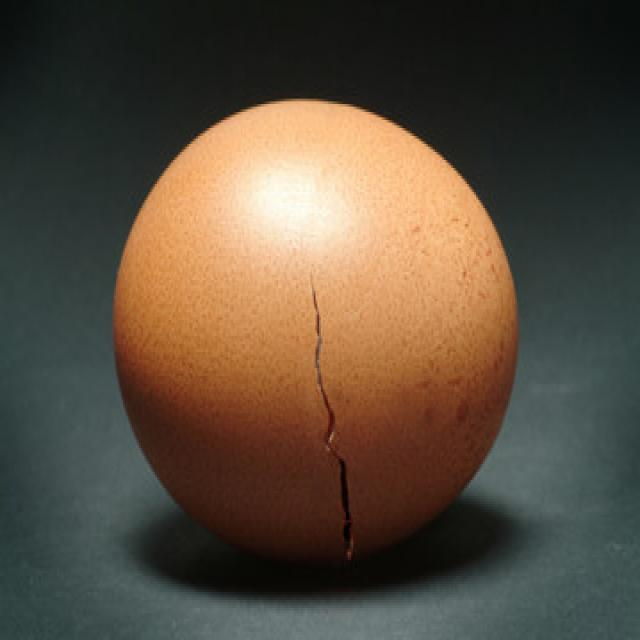biodegradable: (110, 96, 522, 562)
